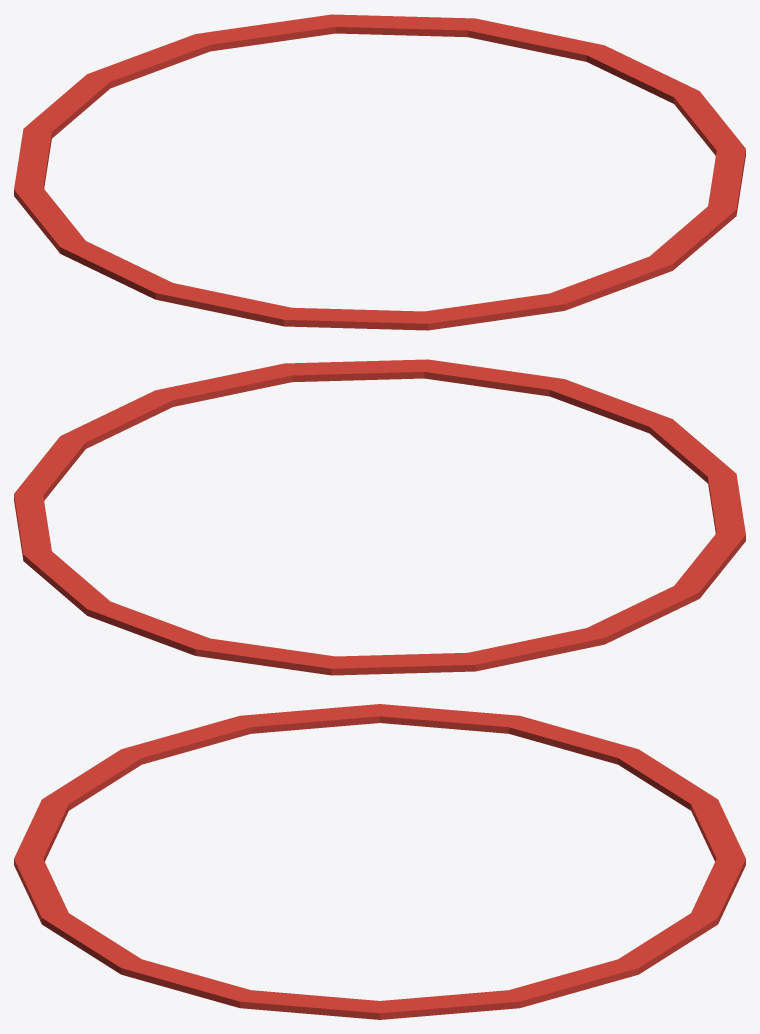
Rendered from PROP_FloorRing.fbx.
3 views of the same model, one above another, from view 1: azimuth 30°, elevation 25°; view 2: azimuth 150°, elevation 25°; view 3: azimuth 270°, elevation 25° (orthographic).
Visible parts, largest first — view 1: PROP_FloorRing; view 2: PROP_FloorRing; view 3: PROP_FloorRing.
Boxes of the visible parts, box(x1,y1,x2,y2) form: PROP_FloorRing: box(14, 14, 745, 330); PROP_FloorRing: box(14, 359, 745, 675); PROP_FloorRing: box(14, 704, 745, 1019).
Bounding box in the file's own units: 200 × 2 × 200.
1 material, 1 textured.
